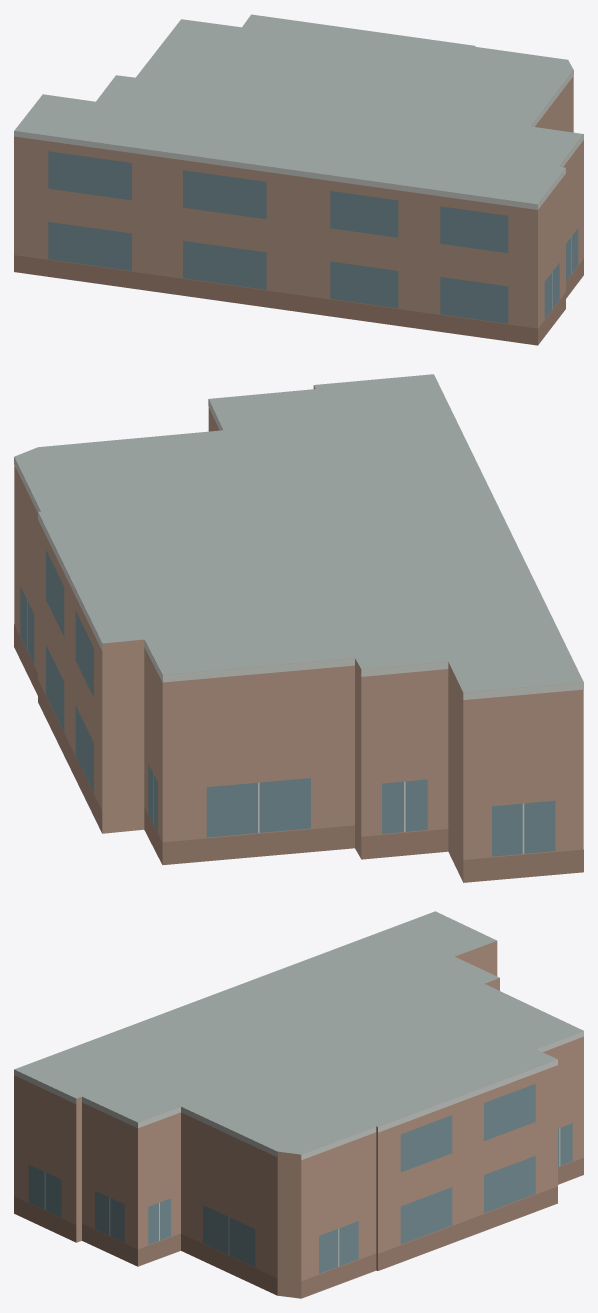
The model's file is survey-upis-32616501.glb.
The picture shows the model from 3 angles, top to bottom: view 1: azimuth 30°, elevation 25°; view 2: azimuth 150°, elevation 25°; view 3: azimuth 270°, elevation 25°; orthographic projection. The views are drawn at different scales.
Visible parts, largest first — view 1: survey-upis-32616501.tmp; view 2: survey-upis-32616501.tmp; view 3: survey-upis-32616501.tmp.
Part boxes in pixels (left/top/right/bottom): survey-upis-32616501.tmp: left=14, top=14, right=583, bottom=345; survey-upis-32616501.tmp: left=14, top=374, right=583, bottom=882; survey-upis-32616501.tmp: left=14, top=911, right=583, bottom=1298.
Size of the model in its own units: 22.1 by 6.1 by 21.87.
